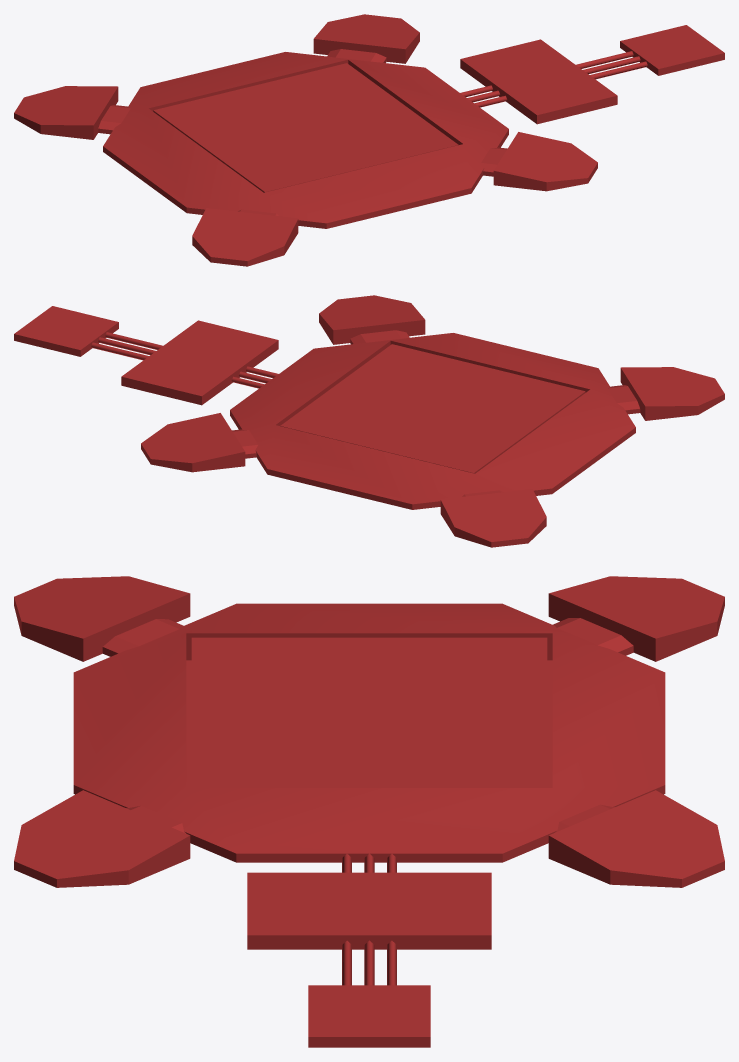
Rendered from Pressure Plate.fbx.
3 renders of one model, top to bottom at view 1: azimuth 30°, elevation 25°; view 2: azimuth 150°, elevation 25°; view 3: azimuth 270°, elevation 25°, orthographic. The views are drawn at different scales.
Visible parts, largest first — view 1: Receiver, Plate; view 2: Receiver, Plate; view 3: Receiver, Plate.
Part boxes in pixels (left/top/right/bottom): Receiver: left=14, top=14, right=724, bottom=266; Plate: left=153, top=63, right=458, bottom=192; Receiver: left=14, top=295, right=724, bottom=547; Plate: left=280, top=344, right=585, bottom=473; Receiver: left=14, top=576, right=724, bottom=1047; Plate: left=191, top=637, right=547, bottom=787.
Bounding box in the file's own units: 2.96 × 0.0811 × 1.93.
